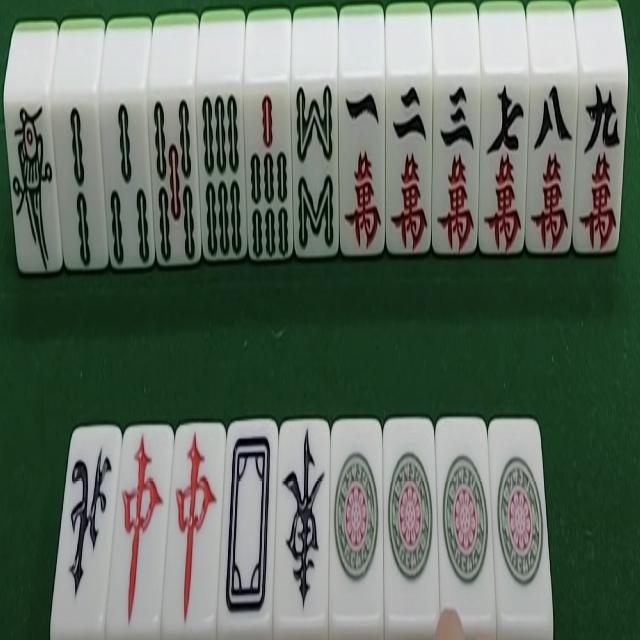bai: (220, 427, 274, 637)
east: (276, 424, 327, 620)
m1: (339, 79, 384, 248)
m2: (388, 77, 430, 256)
m3: (432, 82, 478, 252)
m7: (481, 80, 526, 252)
m8: (527, 75, 574, 247)
m9: (576, 71, 624, 251)
north: (61, 441, 116, 616)
s1: (6, 99, 56, 274)
s2: (54, 100, 103, 272)
s3: (104, 105, 151, 278)
s5: (150, 98, 198, 262)
s6: (199, 94, 245, 266)
s7: (245, 86, 292, 256)
s8: (290, 82, 336, 253)
t1: (383, 416, 440, 636), (328, 415, 384, 636), (436, 413, 490, 626), (493, 422, 546, 621)
zhong: (175, 431, 217, 620), (120, 434, 161, 619)
